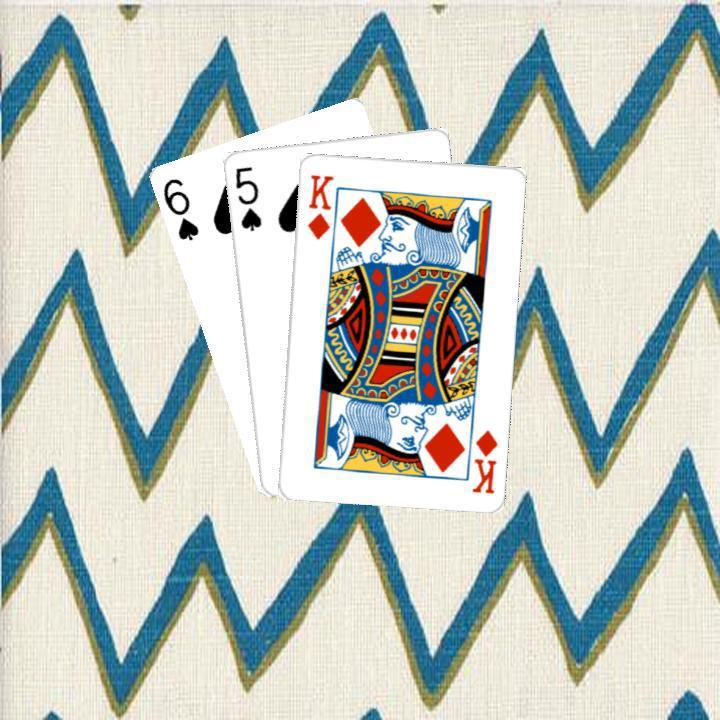5: (230, 161, 263, 233)
6: (158, 173, 201, 243)
K: (467, 425, 500, 496), (303, 169, 335, 242)
